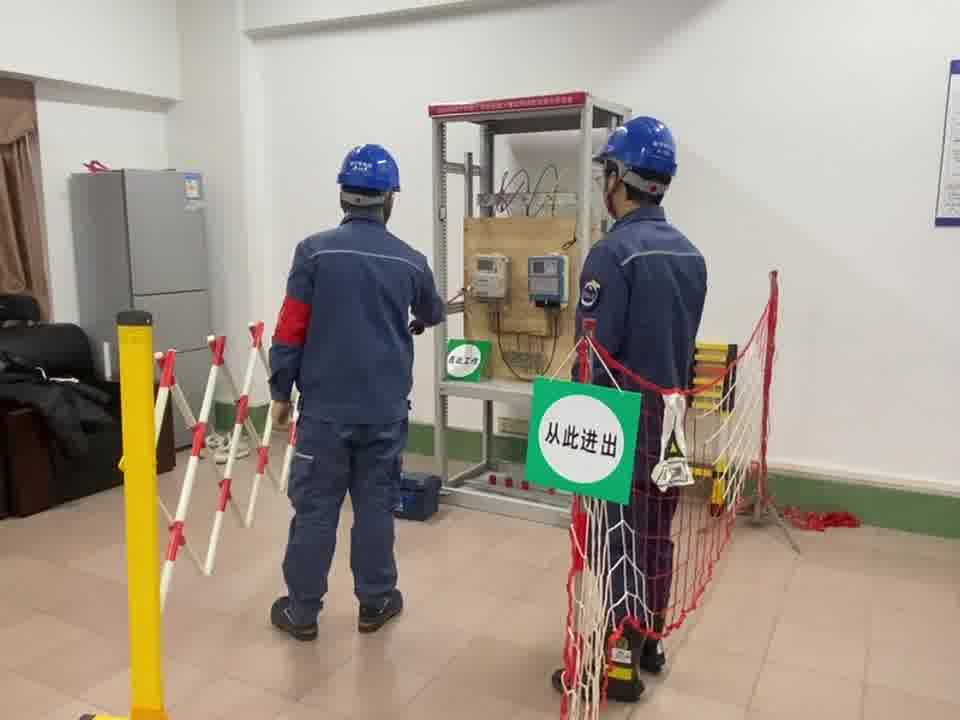badge: (273, 296, 313, 348)
downsuit: (279, 419, 410, 607), (572, 428, 689, 635)
halt: (592, 115, 681, 211), (335, 143, 404, 215)
hand: (262, 396, 291, 436)
inear: (599, 160, 630, 217)
intosign: (518, 371, 643, 510)
person: (552, 110, 710, 707), (261, 141, 449, 635)
shoe: (552, 618, 671, 701)
sleeve: (576, 274, 602, 313)
testrod: (403, 286, 470, 336)
upsuit: (264, 214, 449, 420), (575, 209, 708, 387)
worksign: (446, 335, 494, 384)
wronghold: (403, 294, 453, 334)
